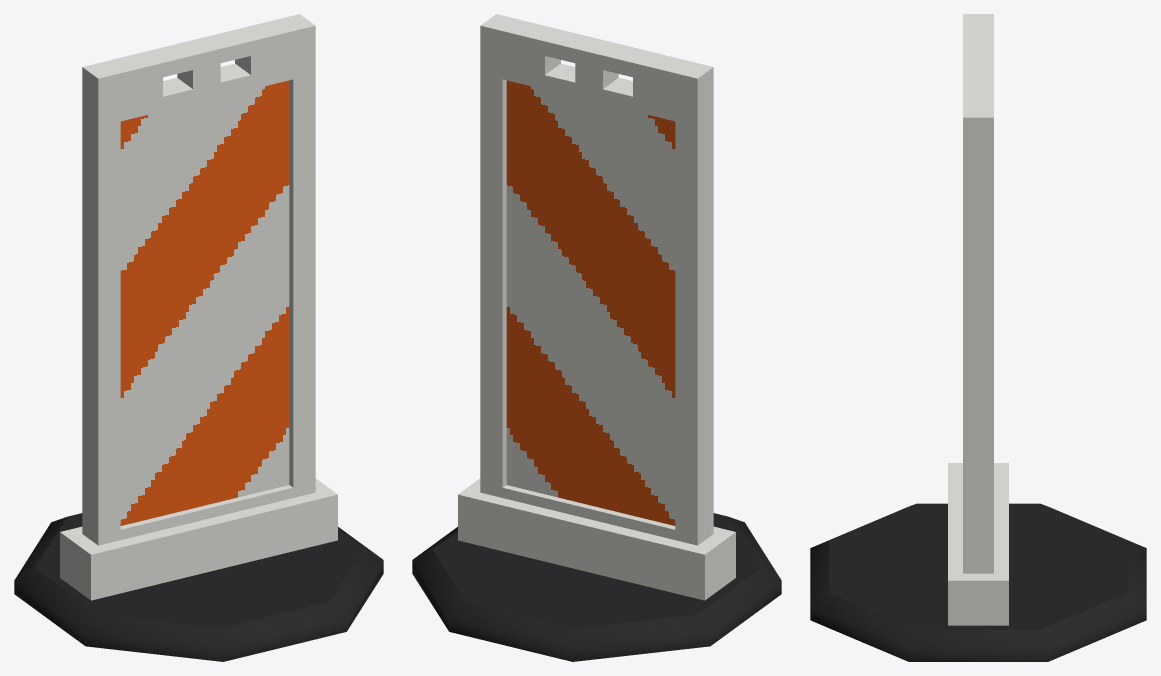
File: workzone_channelizer_cade.obj
The picture shows the model from 3 angles, left to right: view 1: azimuth 30°, elevation 25°; view 2: azimuth 150°, elevation 25°; view 3: azimuth 270°, elevation 25°; orthographic projection. The views are drawn at different scales.
Parts seen in each view (by area): view 1: workzone_channelizer_cade; view 2: workzone_channelizer_cade; view 3: workzone_channelizer_cade.
Boxes of the visible parts, <box> form: workzone_channelizer_cade: <box>14,14,383,661</box>; workzone_channelizer_cade: <box>412,14,781,661</box>; workzone_channelizer_cade: <box>810,14,1146,661</box>.
Size of the model in its own units: 0.5659 by 0.975 by 0.5659.
